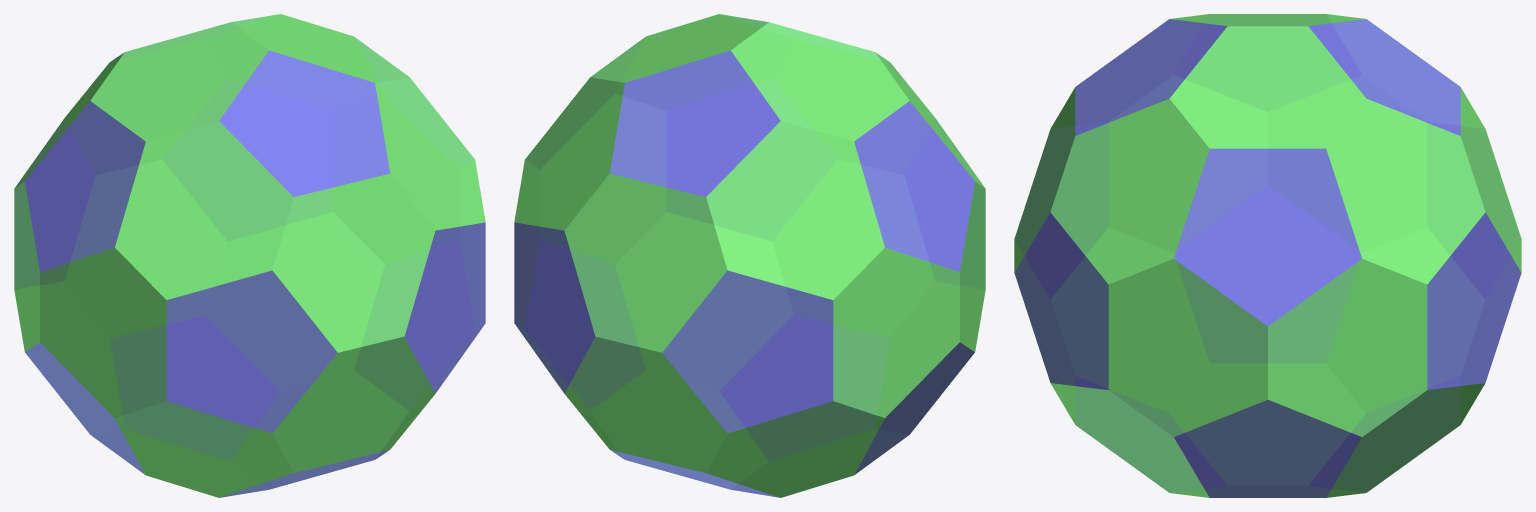
Rendered from BiscribedTruncatedIcosahedron.obj.
The picture shows the model from 3 angles, left to right: view 1: azimuth 30°, elevation 25°; view 2: azimuth 150°, elevation 25°; view 3: azimuth 270°, elevation 25°; orthographic projection. The views are drawn at different scales.
Bounding box in the file's own units: 2.14 × 2.14 × 2.14.
